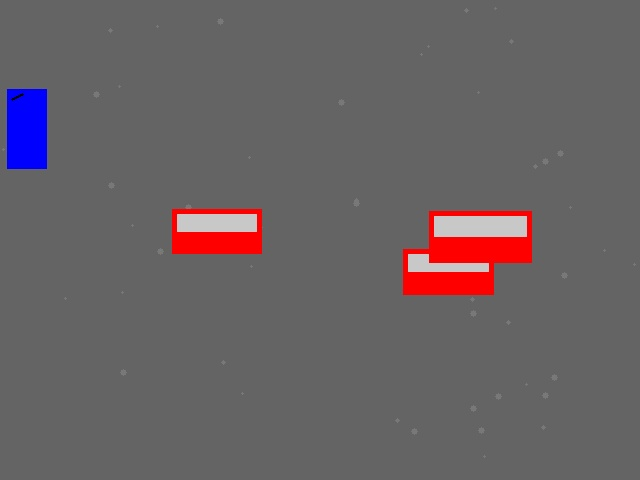car: (429, 211, 531, 262), (403, 249, 493, 294), (172, 209, 261, 253)
motorcycle: (7, 89, 46, 168)
